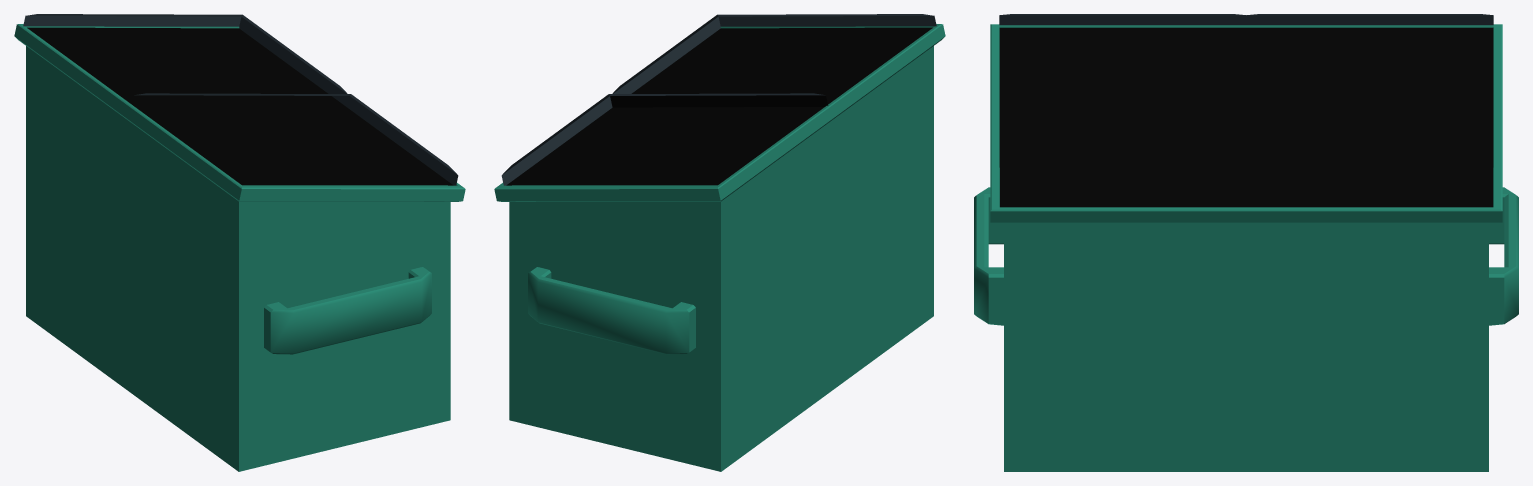
Rendered from Dumpster.fbx.
3 renders of one model, left to right at view 1: azimuth 30°, elevation 25°; view 2: azimuth 150°, elevation 25°; view 3: azimuth 270°, elevation 25°, orthographic. The views are drawn at different scales.
Visible parts, largest first — view 1: Dumpster; view 2: Dumpster; view 3: Dumpster.
Boxes of the visible parts, x1,y1,x2,y2 form: Dumpster: (14,14,465,471); Dumpster: (494,14,945,471); Dumpster: (974,14,1518,471).
Size of the model in its own units: 109 by 139 by 199.
